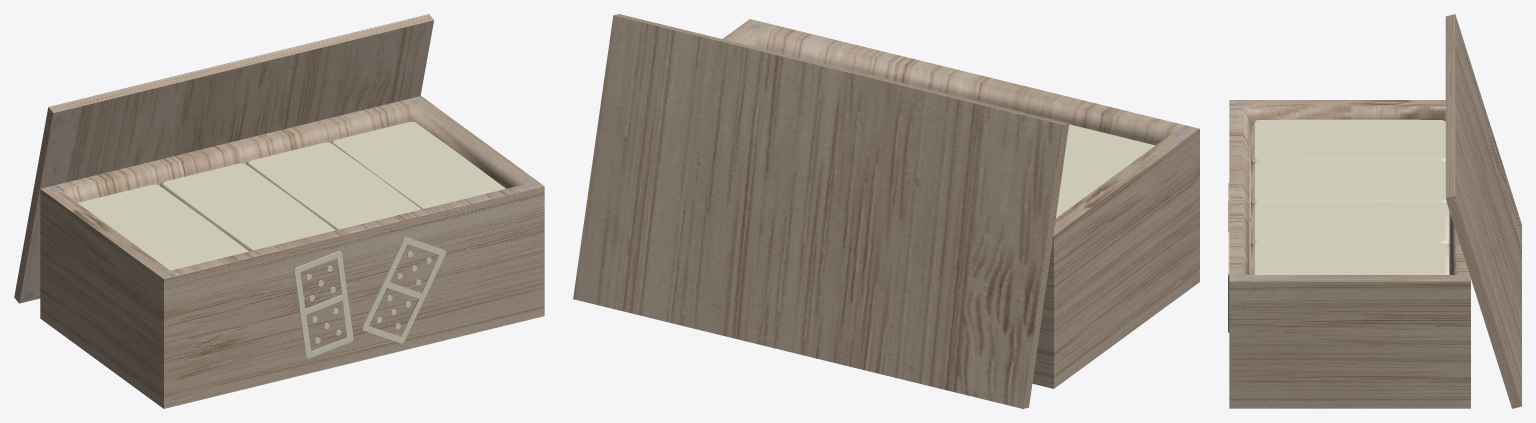
File: dominoes_box.glb
The picture shows the model from 3 angles, left to right: view 1: azimuth 30°, elevation 25°; view 2: azimuth 150°, elevation 25°; view 3: azimuth 270°, elevation 25°; orthographic projection. The views are drawn at different scales.
Visible parts, largest first — view 1: box, lid, domino_stack; view 2: lid, box, domino_stack; view 3: box, domino_stack, lid.
Part boxes in pixels (left/top/right/bottom): box: left=40, top=96, right=544, bottom=408; lid: left=14, top=14, right=433, bottom=303; domino_stack: left=78, top=122, right=505, bottom=270; lid: left=573, top=14, right=1068, bottom=408; box: left=722, top=19, right=1199, bottom=388; domino_stack: left=1056, top=124, right=1155, bottom=217; box: left=1228, top=100, right=1470, bottom=408; domino_stack: left=1251, top=119, right=1449, bottom=274; lid: left=1445, top=14, right=1521, bottom=408.
Bounding box in the file's own units: 3.38 × 1.85 × 2.31.
5 materials, 2 textured.
